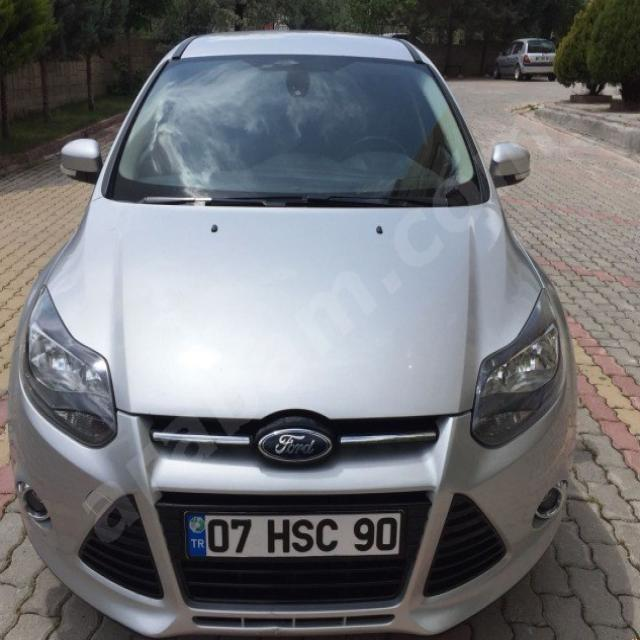license_plate: (184, 512, 403, 556)
